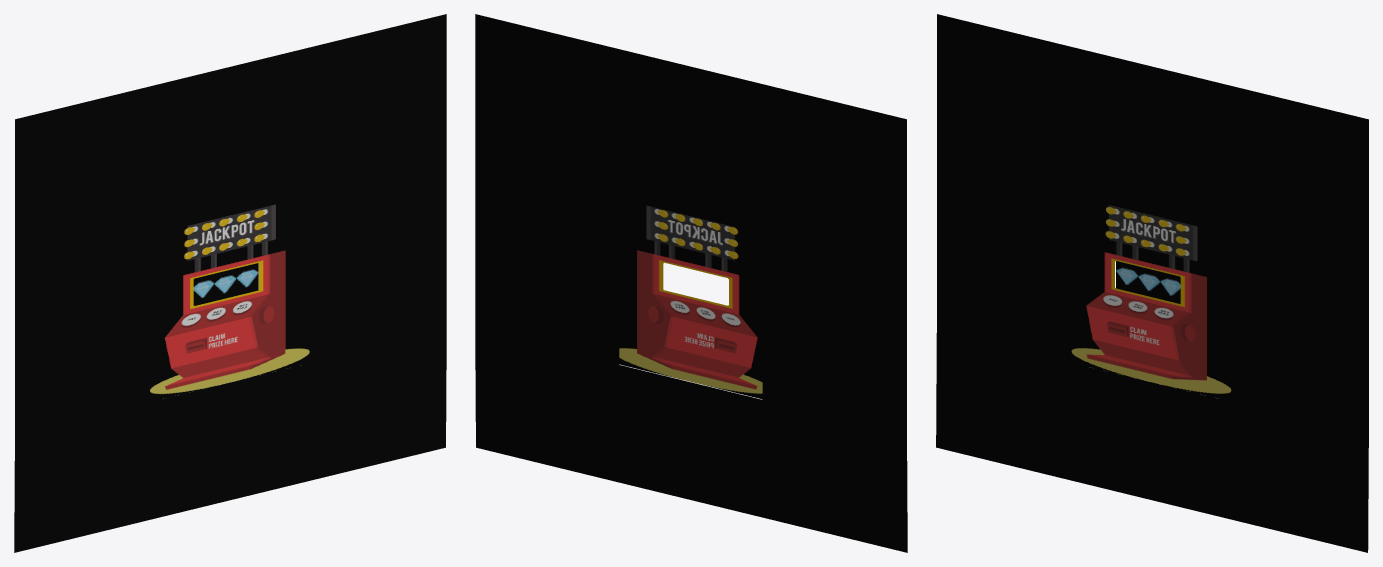
The model's file is slotscene.glb.
3 views of the same model, side by side, from view 1: azimuth 30°, elevation 25°; view 2: azimuth 150°, elevation 25°; view 3: azimuth 330°, elevation 25° (orthographic).
Visible parts, largest first — view 1: Background, SlotMachine, Row2, Row3, Row1; view 2: Background, SlotMachine; view 3: Background, SlotMachine, Row1, Row2, Row3.
Boxes of the visible parts, x1,y1,x2,y2 form: Background: (14,14,446,552); SlotMachine: (150,196,309,401); Row2: (214,268,236,300); Row3: (236,263,258,295); Row1: (193,274,214,305); Background: (475,14,907,552); SlotMachine: (619,199,762,399); Background: (936,14,1368,552); SlotMachine: (1071,196,1231,401); Row1: (1116,261,1138,293); Row2: (1138,266,1160,298); Row3: (1160,271,1180,303).
Size of the model in its own units: 5.34 by 5.12 by 0.0247.
Materials: 3 (3 with a texture image).
